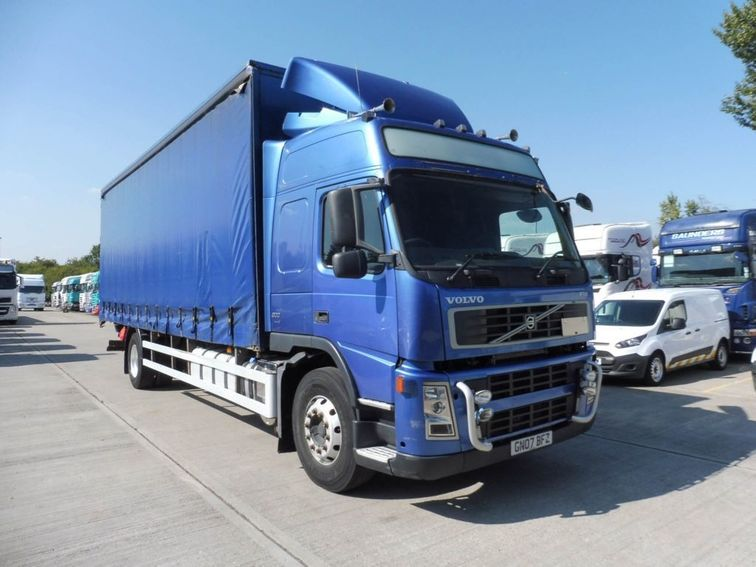Car: (586, 286, 730, 381)
Semi: (99, 58, 602, 493)
